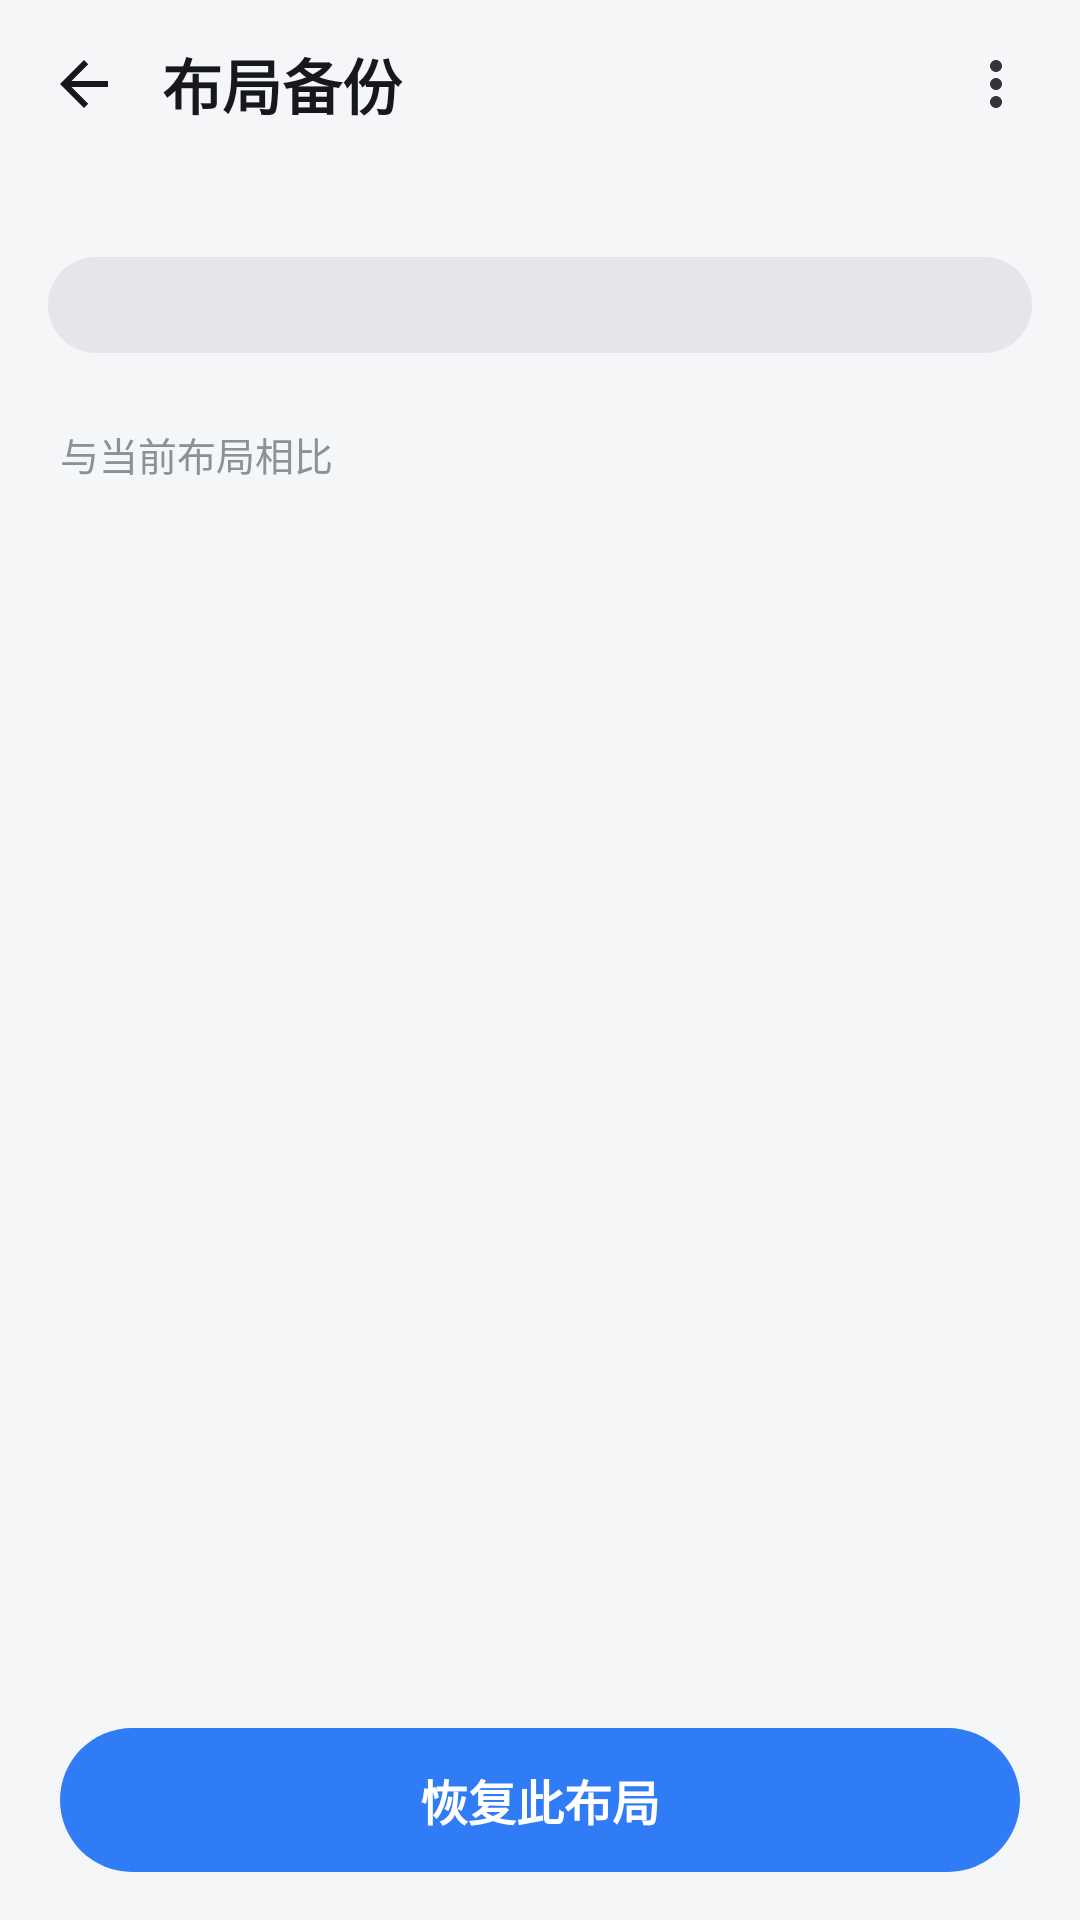

Named icons in this screenshot (1080×1920) and their bounding boxes, [left=x1, top=y1, right=x2, bottom=y2]:
更多: [left=990, top=60, right=1002, bottom=108]
返回: [left=60, top=60, right=108, bottom=108]
